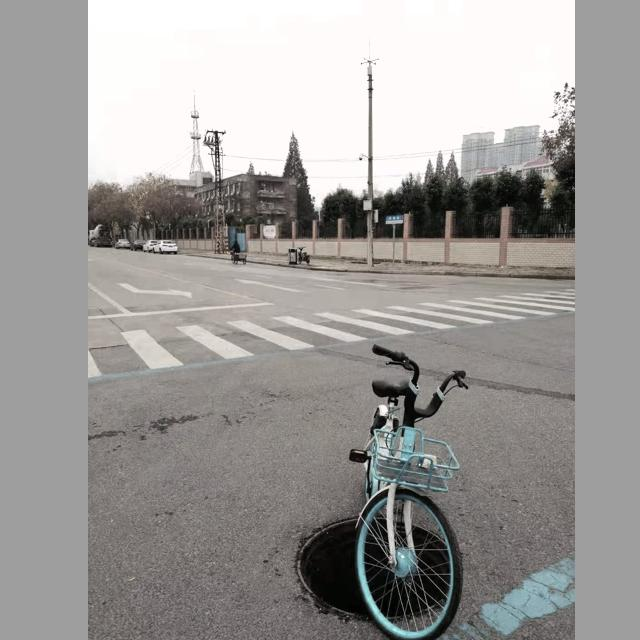lose: (298, 513, 457, 626)
